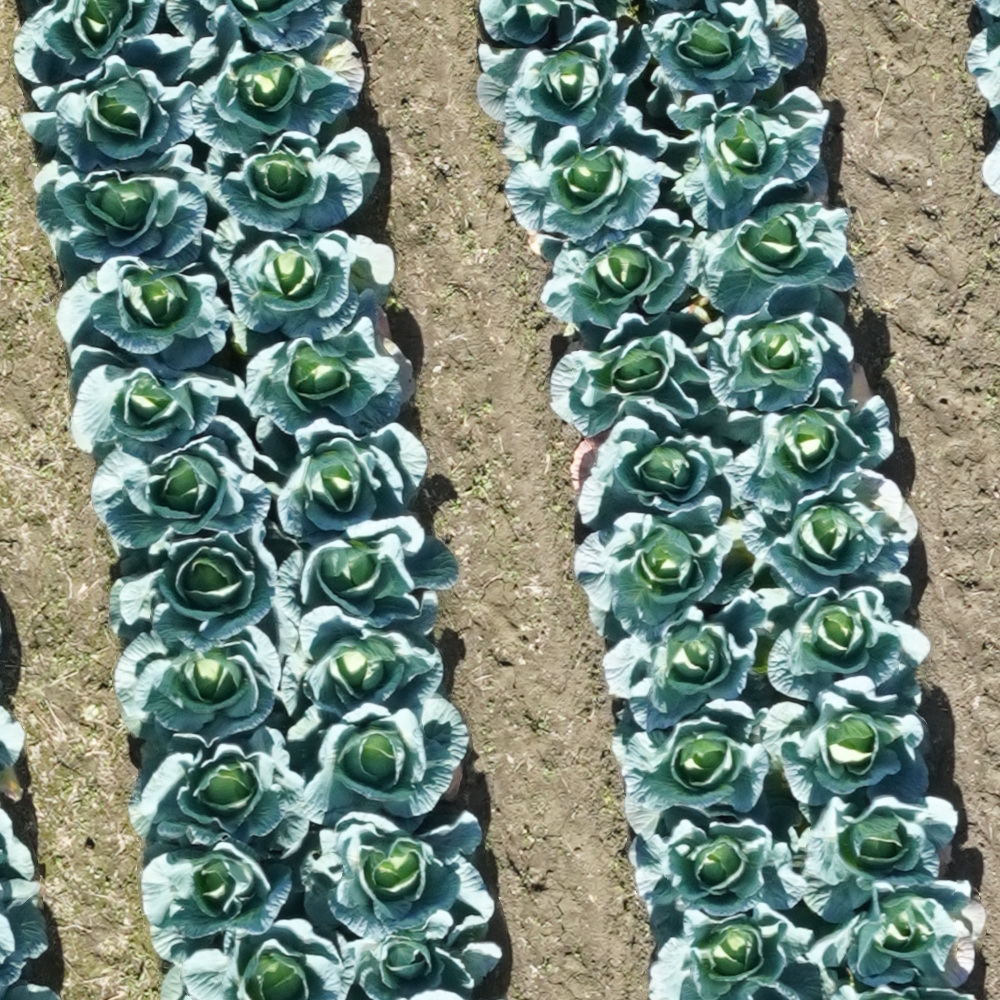Cabbage: (244, 295, 416, 459), (648, 79, 832, 229), (576, 495, 763, 640), (183, 7, 365, 150), (211, 217, 399, 355), (301, 809, 495, 941), (506, 106, 678, 251), (90, 415, 275, 549), (108, 526, 301, 653), (288, 693, 469, 828), (32, 144, 210, 280), (127, 726, 310, 858), (19, 34, 195, 171), (477, 15, 649, 154), (549, 307, 724, 436), (631, 803, 806, 932), (602, 591, 763, 731), (723, 380, 895, 511), (761, 672, 929, 806), (741, 468, 916, 596), (611, 700, 768, 841), (758, 574, 932, 701), (270, 515, 462, 630), (570, 399, 734, 533), (681, 196, 861, 318), (529, 210, 695, 342), (280, 592, 446, 722), (789, 797, 960, 921), (69, 344, 245, 461), (56, 257, 229, 376), (141, 837, 298, 965), (207, 115, 380, 230), (807, 877, 983, 990), (258, 420, 426, 536), (113, 630, 281, 744), (708, 285, 855, 413), (648, 906, 846, 1000), (638, 0, 807, 104), (161, 920, 352, 1000), (347, 914, 503, 1000), (14, 0, 166, 85), (166, 0, 349, 54), (480, 0, 629, 46)
